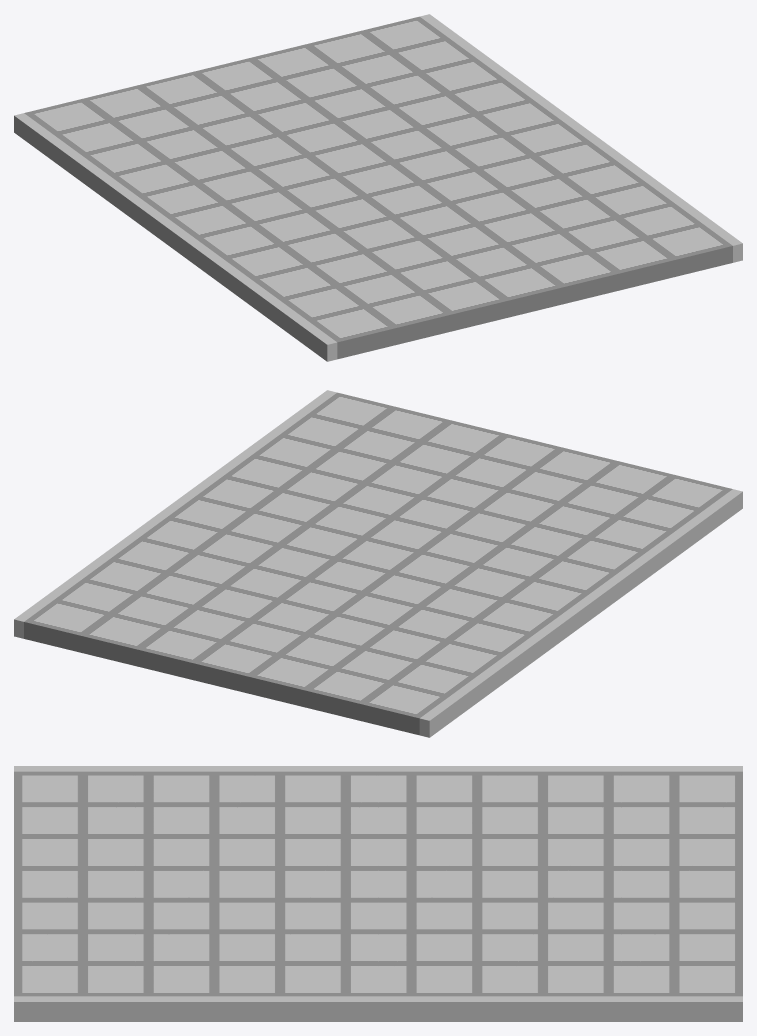
Rendered from platform_0.0.2.fbx.
The picture shows the model from 3 angles, top to bottom: view 1: azimuth 30°, elevation 25°; view 2: azimuth 150°, elevation 25°; view 3: azimuth 270°, elevation 25°; orthographic projection. The views are drawn at different scales.
Visible parts, largest first — view 1: Cube; view 2: Cube; view 3: Cube.
Boxes of the visible parts, box(x1,y1,x2,y2) form: Cube: box(14, 14, 742, 361); Cube: box(14, 390, 742, 737); Cube: box(14, 766, 742, 1021).
Bounding box in the file's own units: 12239 × 479 × 15977.
